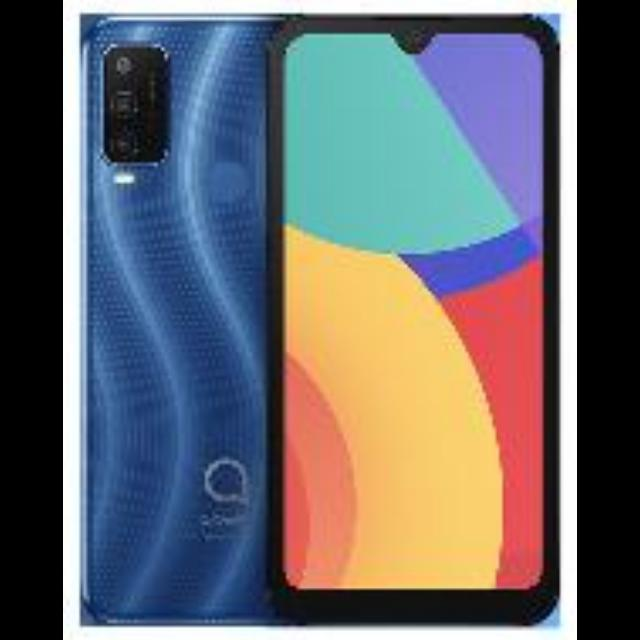Phone: (277, 19, 561, 625), (82, 10, 268, 626)
